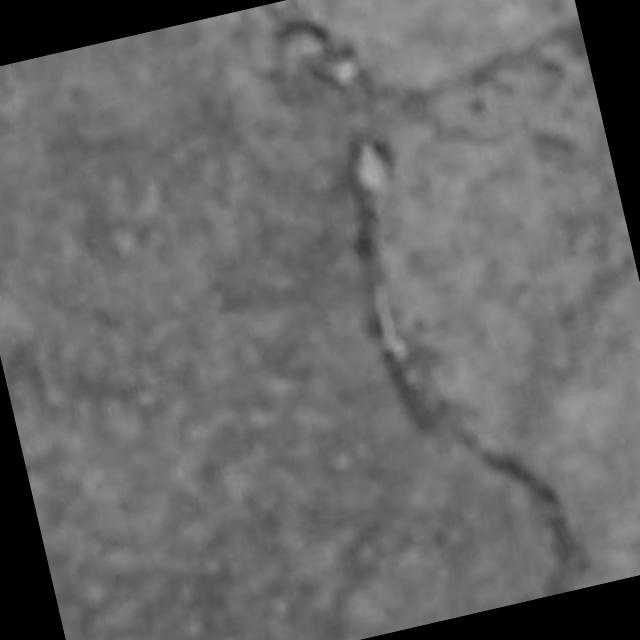crack: (348, 131, 587, 596), (355, 187, 587, 596)
